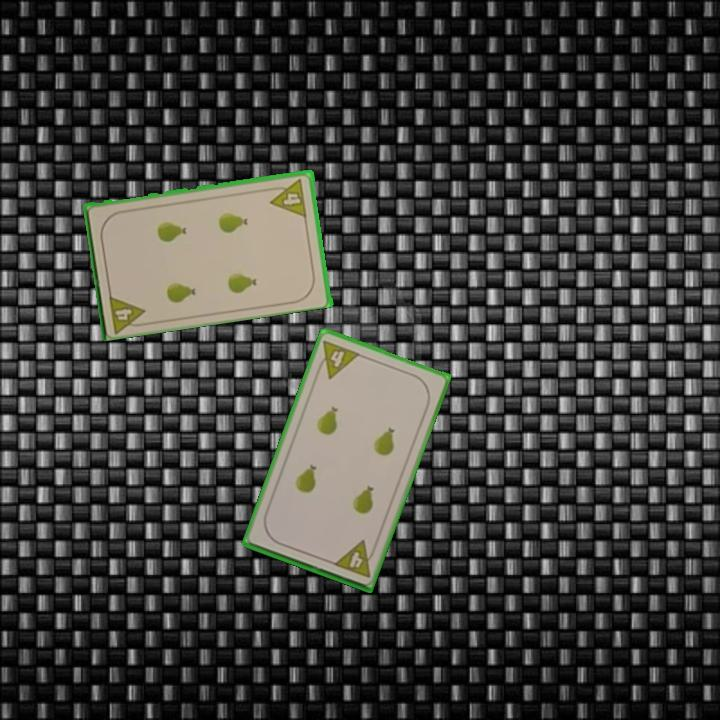4p: (312, 336, 363, 382), (329, 537, 379, 580), (105, 290, 150, 334), (266, 175, 309, 219)
